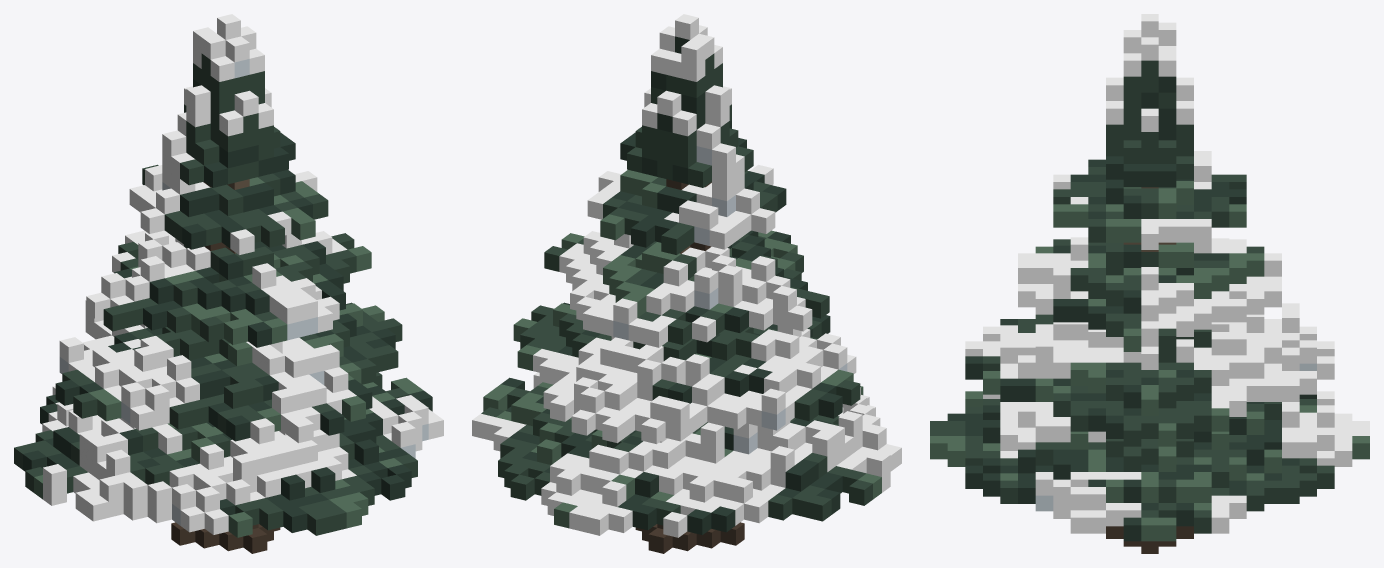
Rendered from SM_VoxelPine_Tree01.glb.
The picture shows the model from 3 angles, left to right: view 1: azimuth 30°, elevation 25°; view 2: azimuth 150°, elevation 25°; view 3: azimuth 270°, elevation 25°; orthographic projection.
Parts seen in each view (by area): view 1: SM_VoxelPine_Tree01; view 2: SM_VoxelPine_Tree01; view 3: SM_VoxelPine_Tree01.
Boxes of the visible parts, x1=… form: SM_VoxelPine_Tree01: x1=14, y1=14, x2=443, y2=553; SM_VoxelPine_Tree01: x1=472, y1=14, x2=901, y2=553; SM_VoxelPine_Tree01: x1=930, y1=14, x2=1369, y2=553.
Bounding box in the file's own units: 5 × 6.4 × 5.
1 material, 1 textured.
